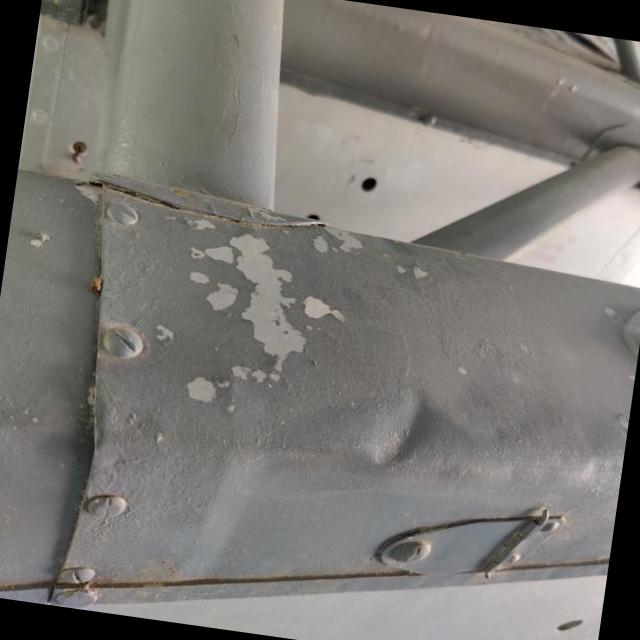Dent: (350, 390, 449, 473)
Paint-off: (180, 226, 327, 401)
